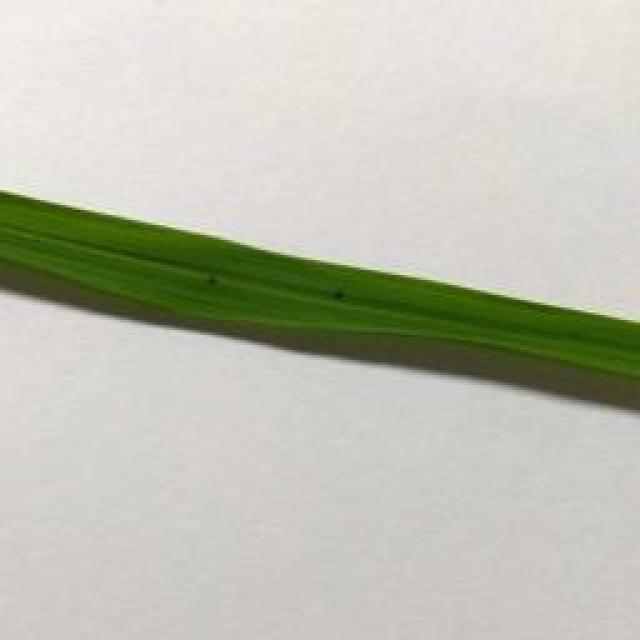Brown_Spot: (191, 261, 240, 305), (322, 278, 354, 315)
